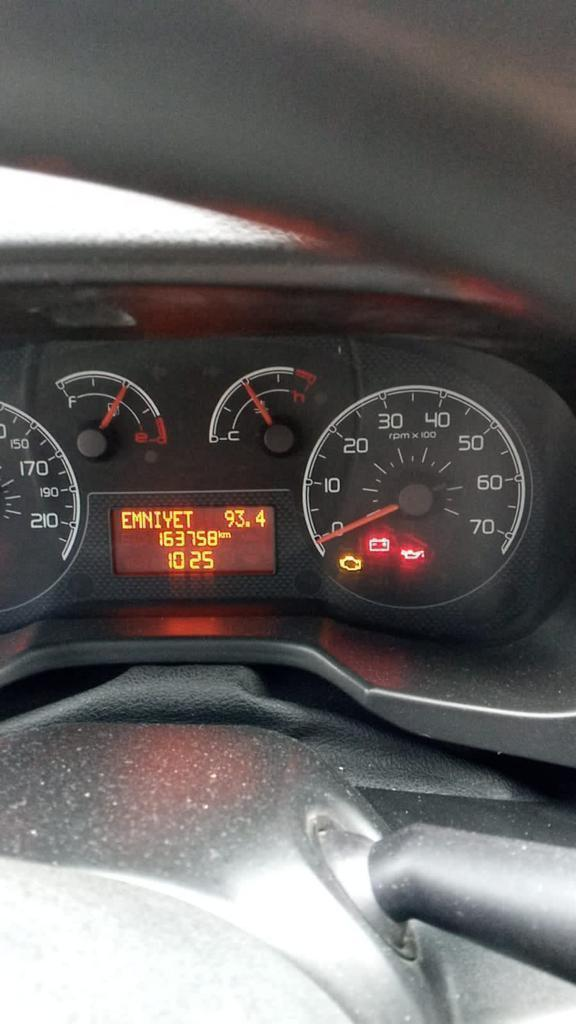,: (245, 519, 251, 528)
0: (172, 550, 184, 570)
1: (167, 551, 172, 570), (158, 530, 162, 549)
2: (190, 550, 201, 569)
3: (234, 507, 245, 528), (174, 530, 184, 546)
4: (254, 508, 267, 527)
5: (201, 550, 213, 570), (197, 529, 206, 546)
6: (163, 530, 172, 546)
7: (186, 530, 195, 546)
8: (207, 529, 217, 546)
9: (224, 508, 234, 527)
X: (121, 510, 132, 530), (183, 510, 195, 528), (172, 509, 183, 528), (162, 508, 172, 528), (132, 510, 142, 529), (142, 510, 152, 528), (153, 509, 161, 529), (223, 531, 232, 539), (218, 529, 223, 538)
odometer: (107, 503, 277, 578)
